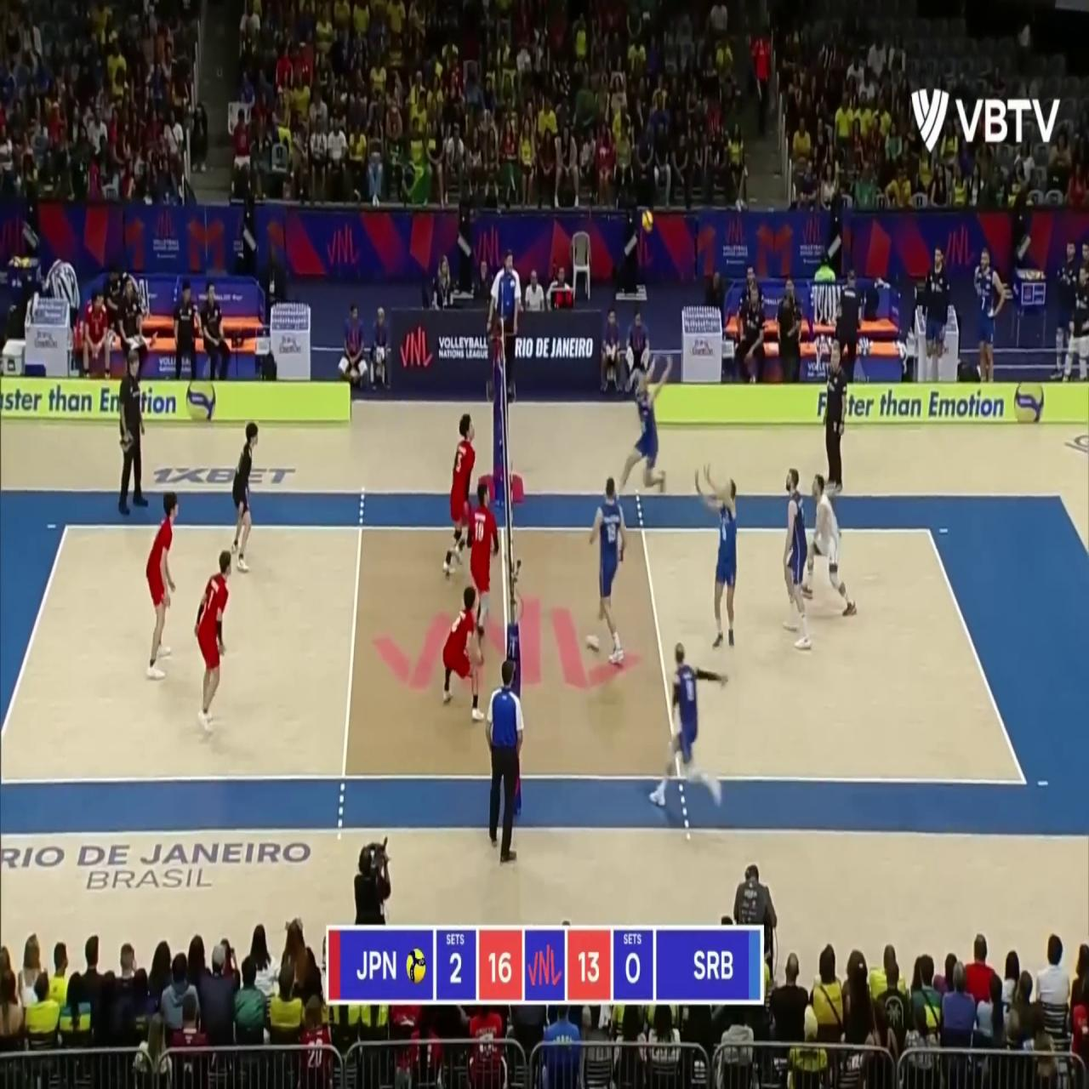ball: (642, 211, 654, 231)
